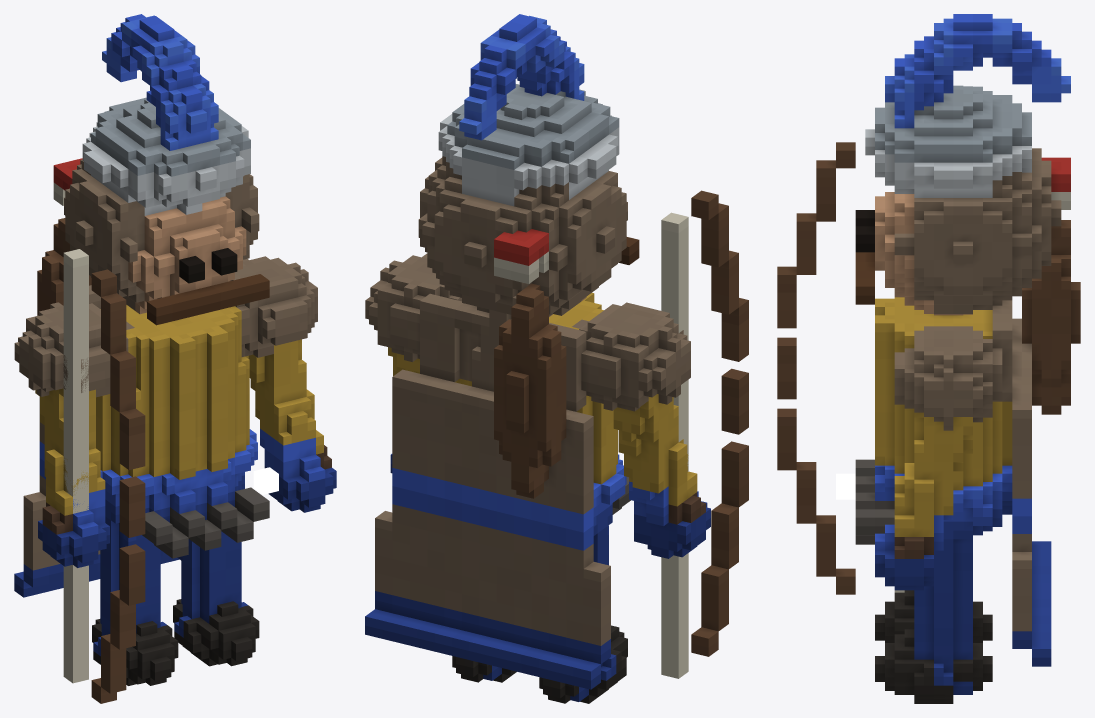
File: u_trappeur__garde.glb
3 renders of one model, left to right at view 1: azimuth 30°, elevation 25°; view 2: azimuth 150°, elevation 25°; view 3: azimuth 270°, elevation 25°, orthographic. The views are drawn at different scales.
Visible parts, largest first — view 1: trappeur_body, trappeur_weapon, trappeur_glow; view 2: trappeur_body, trappeur_weapon; view 3: trappeur_body, trappeur_weapon, trappeur_glow.
Part boxes in pixels (x1,y1,x2,y2): trappeur_body: (14, 14, 336, 685); trappeur_weapon: (63, 249, 145, 703); trappeur_glow: (253, 467, 278, 494); trappeur_body: (365, 14, 710, 703); trappeur_weapon: (661, 190, 748, 678); trappeur_body: (855, 14, 1080, 703); trappeur_weapon: (777, 142, 904, 594); trappeur_glow: (836, 473, 855, 499).
Bounding box in the file's own units: 0.85 × 1.85 × 0.775.
